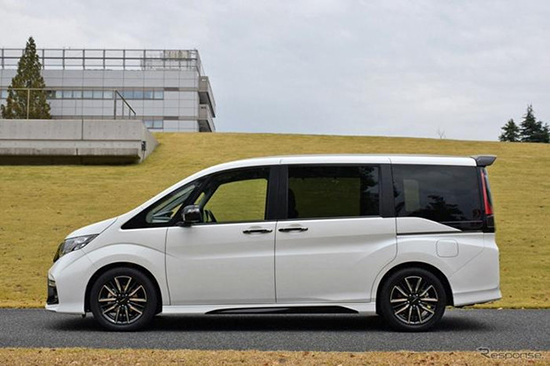van: (44, 150, 505, 332)
